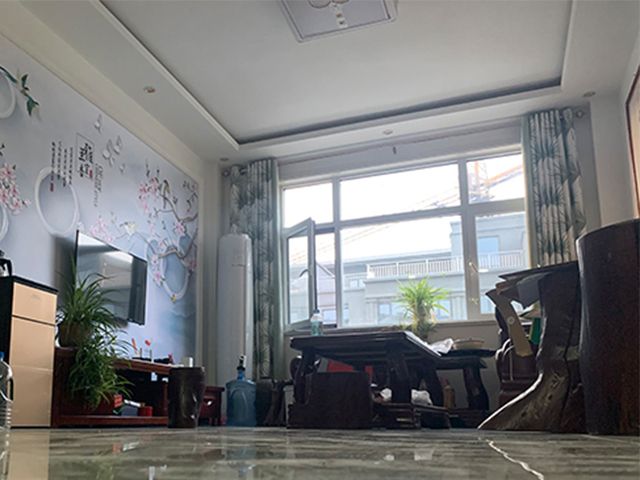cabinet: (51, 345, 226, 426)
curtain: (241, 154, 287, 376), (522, 107, 580, 262)
stool: (475, 261, 587, 433), (573, 218, 640, 438), (168, 366, 205, 427), (262, 378, 290, 427)
table: (288, 328, 451, 430)
